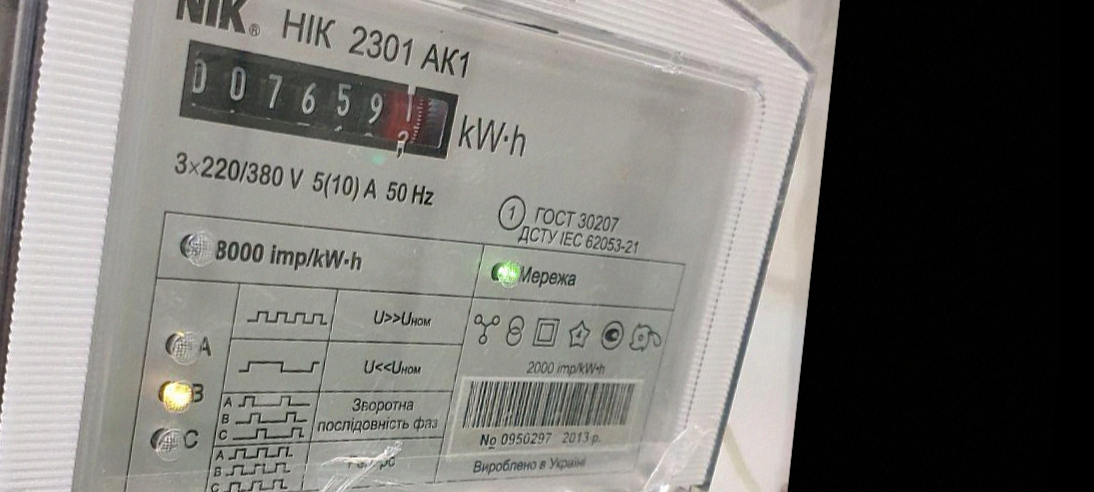0: (224, 60, 252, 104), (186, 53, 213, 97)
1: (400, 91, 420, 126)
5: (332, 79, 356, 119)
6: (297, 76, 322, 117)
7: (262, 70, 286, 111)
9: (365, 89, 386, 127)
screen: (167, 29, 471, 179)
